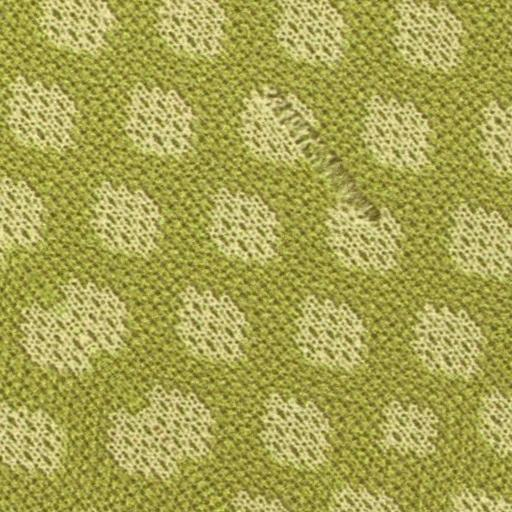slub: (255, 79, 401, 247)
